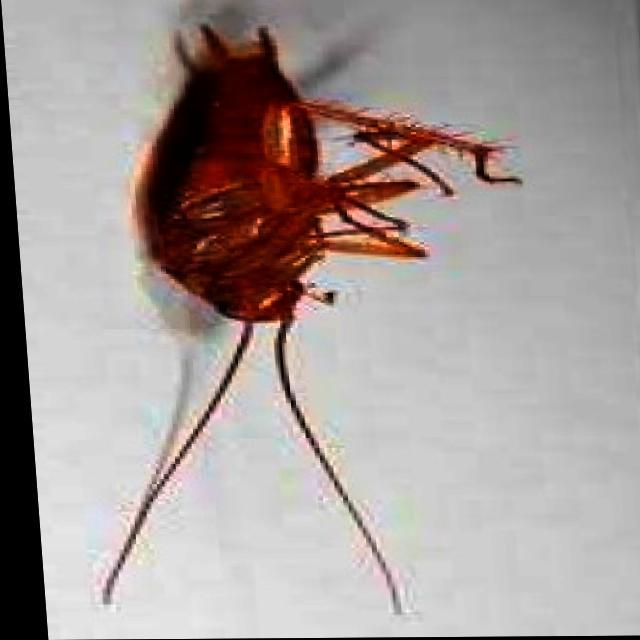cockroach: (88, 19, 527, 619)
